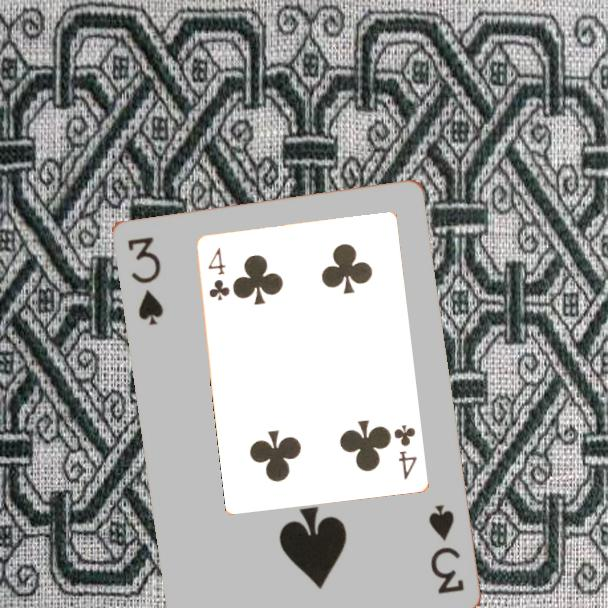c04: (391, 421, 420, 483), (205, 244, 232, 304)
s03: (424, 500, 467, 597), (123, 233, 166, 328)
